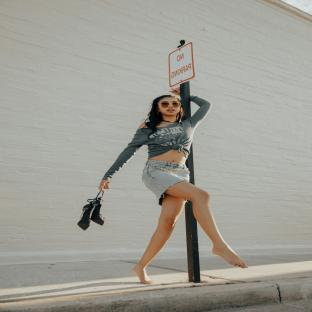Human: (99, 95, 248, 284)
